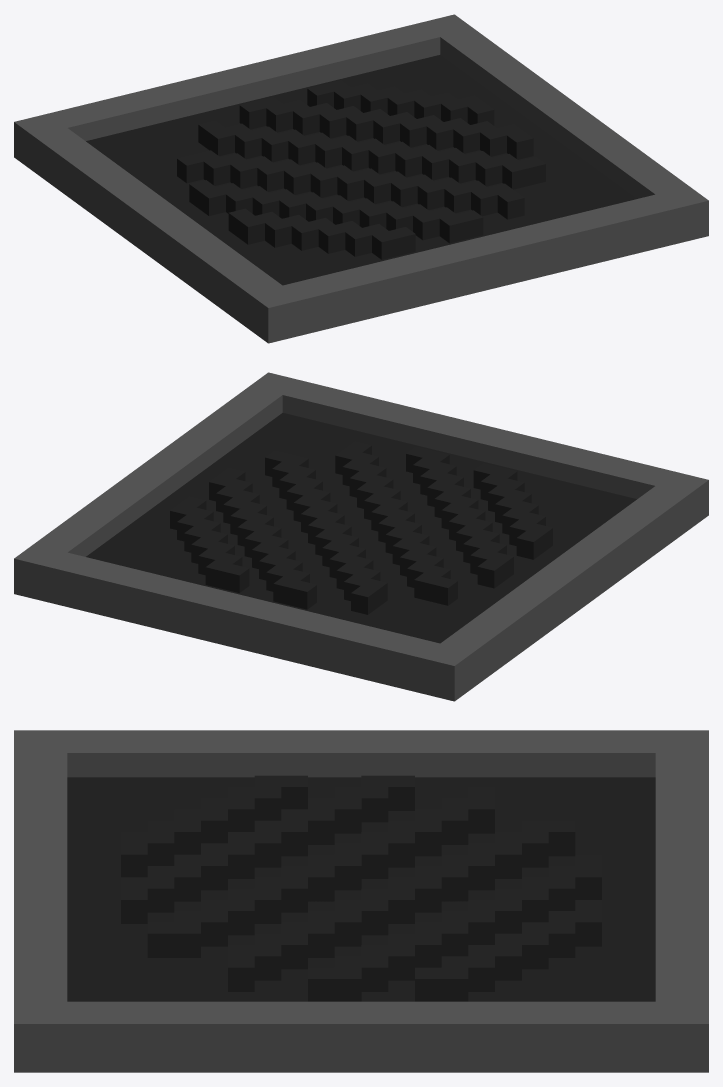
Rendered from trap_GRILL_BLACK.glb.
3 renders of one model, top to bottom at view 1: azimuth 30°, elevation 25°; view 2: azimuth 150°, elevation 25°; view 3: azimuth 270°, elevation 25°, orthographic. The views are drawn at different scales.
Visible parts, largest first — view 1: item_TRAP_GRILL_BLACK; view 2: item_TRAP_GRILL_BLACK; view 3: item_TRAP_GRILL_BLACK.
Part boxes in pixels (box(x1,y1,x2,y2)): item_TRAP_GRILL_BLACK: box(14, 14, 708, 343); item_TRAP_GRILL_BLACK: box(14, 372, 708, 701); item_TRAP_GRILL_BLACK: box(14, 730, 708, 1072).
Bounding box in the file's own units: 0.5909 × 0.0455 × 0.5909.
1 material, 1 textured.
